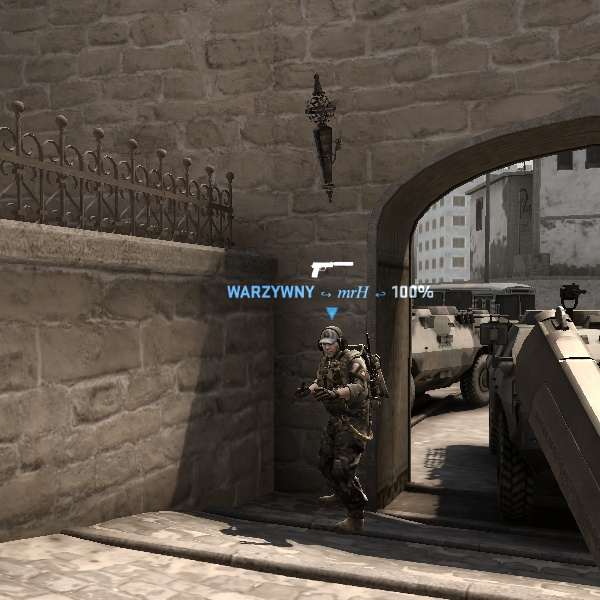ct_head: (309, 321, 355, 368)
t_body: (282, 319, 396, 526)
